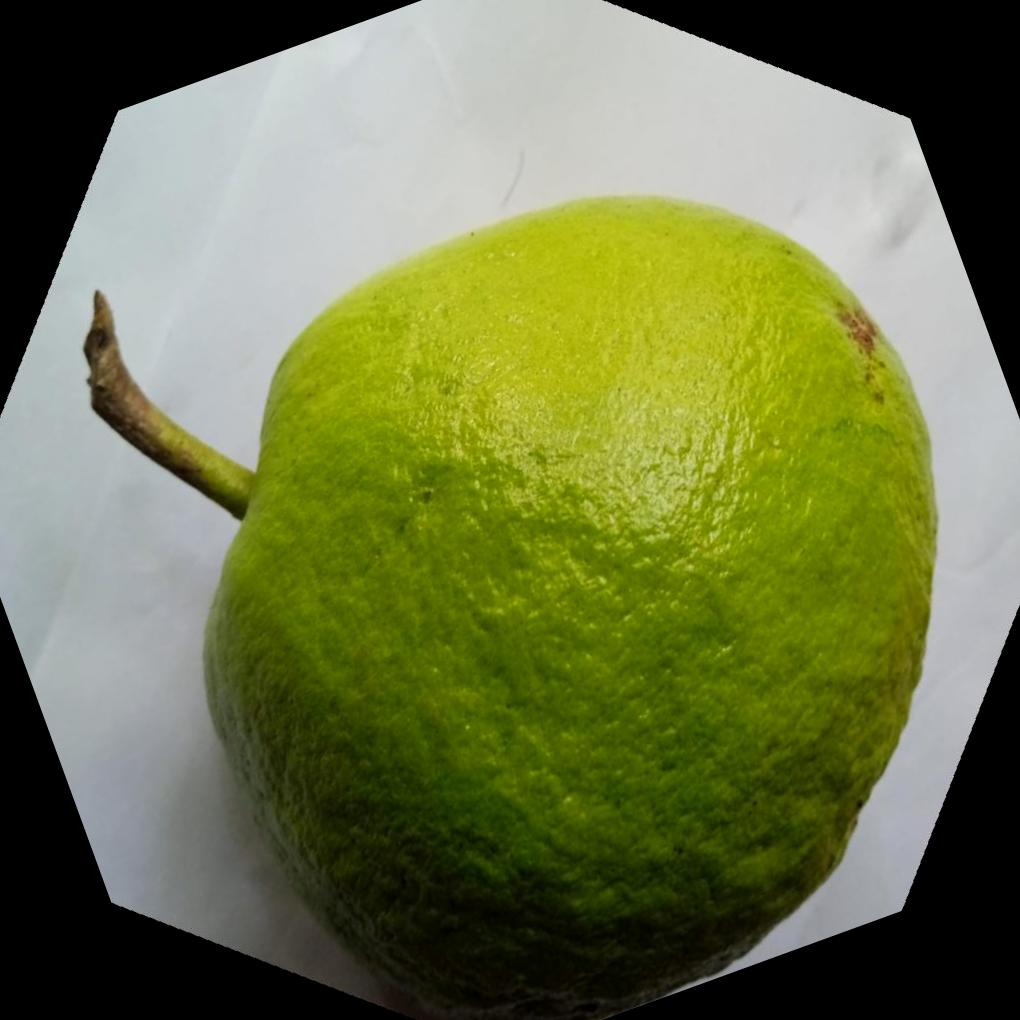FreshGuava: (87, 190, 937, 1020)
